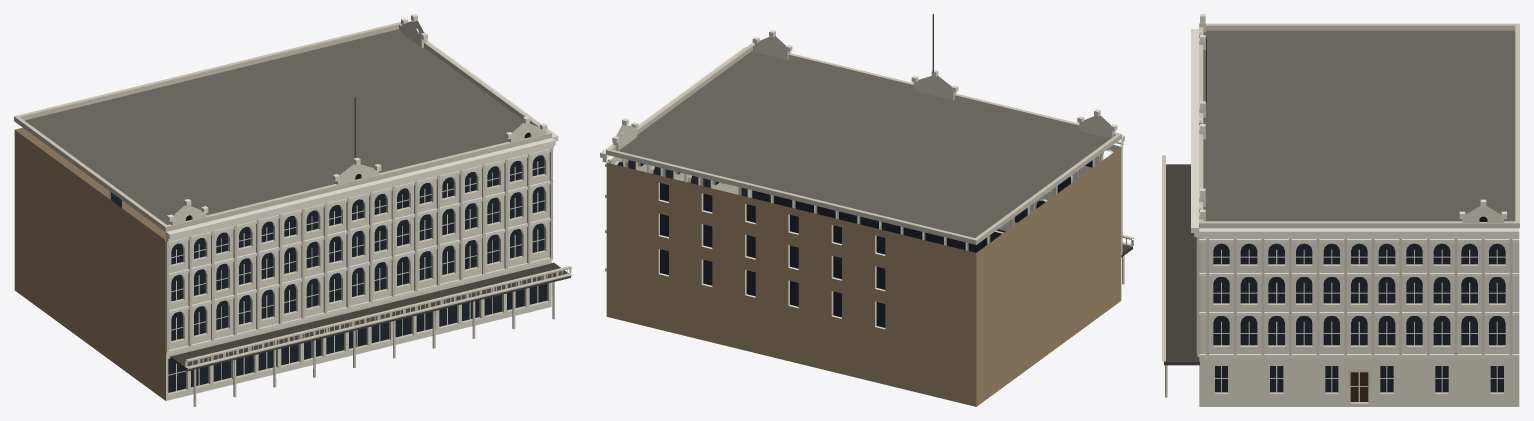
File: capital-hotel.glb
The picture shows the model from 3 angles, left to right: view 1: azimuth 30°, elevation 25°; view 2: azimuth 150°, elevation 25°; view 3: azimuth 270°, elevation 25°; orthographic projection. The views are drawn at different scales.
Parts seen in each view (by area): view 1: capital_roof, capital_iron, capital_brick, capital_iron2, capital_glass, capital_trim, capital_canopy, capital_sash; view 2: capital_brick, capital_roof, capital_iron2, capital_glass, capital_iron, capital_trim; view 3: capital_roof, capital_iron, capital_glass, capital_iron2, capital_trim, capital_canopy, capital_sash, capital_door.
Boxes of the visible parts, x1,y1,x2,y2 form: capital_roof: [25, 29, 523, 224]; capital_iron: [166, 20, 554, 406]; capital_brick: [14, 127, 165, 400]; capital_iron2: [14, 22, 571, 394]; capital_glass: [111, 155, 547, 392]; capital_trim: [109, 14, 558, 354]; capital_canopy: [170, 262, 570, 371]; capital_sash: [168, 161, 544, 391]; capital_brick: [606, 147, 1121, 406]; capital_roof: [616, 50, 1109, 237]; capital_iron2: [606, 43, 1133, 252]; capital_glass: [617, 160, 1092, 327]; capital_iron: [607, 36, 1124, 284]; capital_trim: [600, 30, 1124, 329]; capital_roof: [1203, 30, 1515, 221]; capital_iron: [1165, 23, 1519, 406]; capital_glass: [1213, 243, 1505, 392]; capital_iron2: [1162, 23, 1519, 403]; capital_trim: [1191, 14, 1519, 357]; capital_canopy: [1164, 164, 1199, 365]; capital_sash: [1213, 249, 1505, 401]; capital_door: [1350, 372, 1368, 401].
Size of the model in its own units: 43.5 by 26.9 by 32.43.
